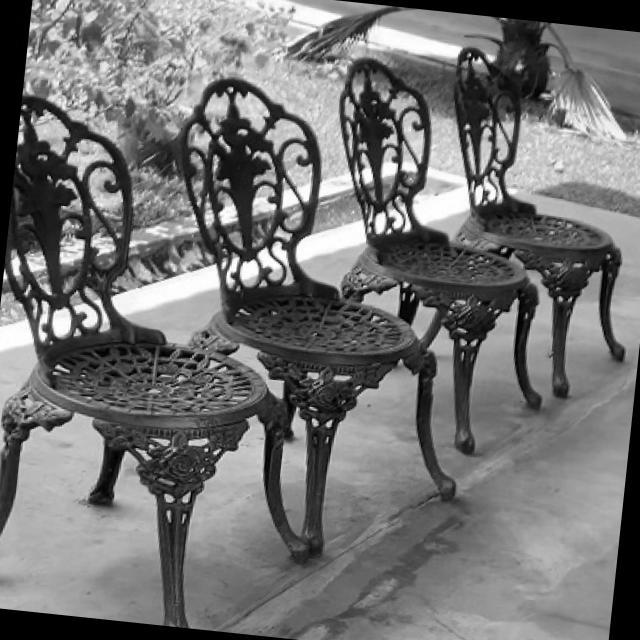chair: (0, 89, 349, 639), (142, 72, 494, 396), (296, 52, 568, 452), (437, 44, 640, 271)
